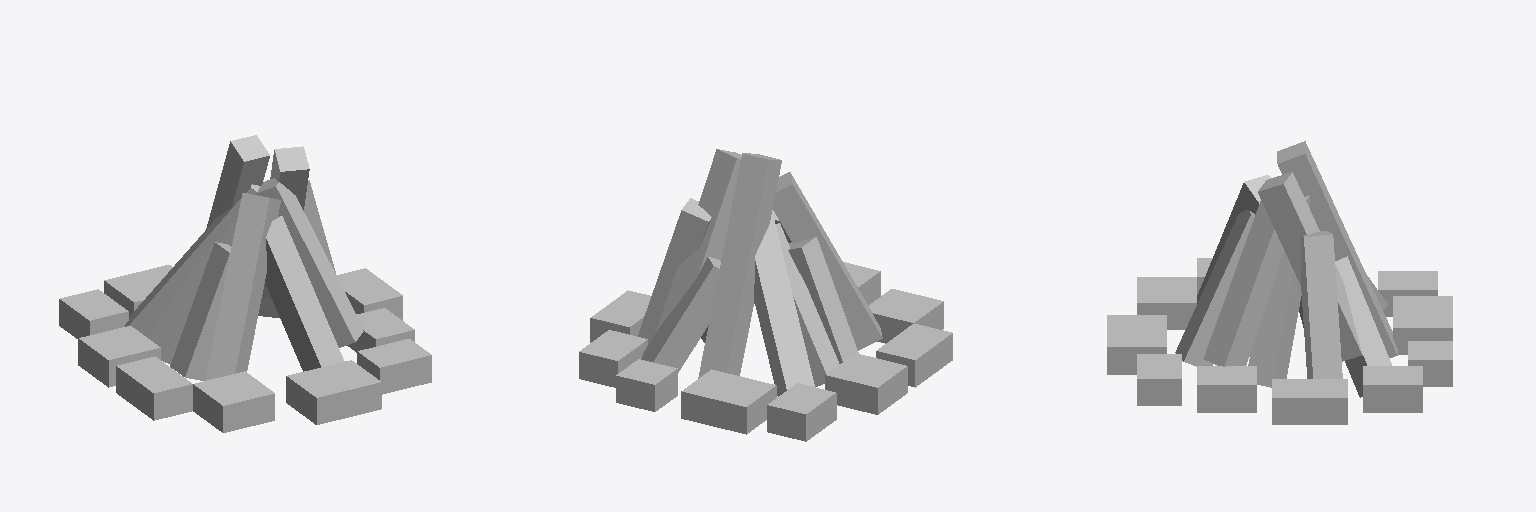
The model's file is костер.obj.
3 renders of one model, left to right at view 1: azimuth 30°, elevation 25°; view 2: azimuth 150°, elevation 25°; view 3: azimuth 270°, elevation 25°, orthographic.
Visible parts, largest first — view 1: Object_42_Object_18.001, Object_38_Object_16.001, Object_12_Object_3.001, Object_34_Object_14.001, Object_40_Object_17.001, Object_22_Object_8.001, Object_24_Object_9.001, Object_48_Object_21.001, Object_20_Object_7.001, Object_6_Object_0.001, Object_30_Object_12.001, Object_26_Object_10.001 (+6 smaller); view 2: Object_30_Object_12.001, Object_48_Object_21.001, Object_42_Object_18.001, Object_18_Object_6.001, Object_36_Object_15.001, Object_46_Object_20.001, Object_20_Object_7.001, Object_40_Object_17.001, Object_26_Object_10.001, Object_32_Object_13.001, Object_24_Object_9.001, Object_44_Object_19.001 (+5 smaller); view 3: Object_34_Object_14.001, Object_32_Object_13.001, Object_36_Object_15.001, Object_30_Object_12.001, Object_28_Object_11.001, Object_38_Object_16.001, Object_10_Object_2.001, Object_12_Object_3.001, Object_18_Object_6.001, Object_14_Object_4.001, Object_8_Object_1.001, Object_22_Object_8.001 (+5 smaller).
Part boxes in pixels (x1,y1,x2,y2): Object_42_Object_18.001: (205, 193, 280, 380); Object_38_Object_16.001: (265, 216, 344, 371); Object_12_Object_3.001: (286, 360, 381, 424); Object_34_Object_14.001: (253, 178, 363, 347); Object_40_Object_17.001: (170, 242, 231, 380); Object_22_Object_8.001: (193, 371, 274, 432); Object_24_Object_9.001: (116, 356, 192, 420); Object_48_Object_21.001: (125, 181, 263, 337); Object_20_Object_7.001: (78, 326, 160, 387); Object_6_Object_0.001: (357, 339, 431, 394); Object_30_Object_12.001: (206, 135, 269, 228); Object_26_Object_10.001: (59, 289, 128, 338); Object_30_Object_12.001: (698, 153, 781, 378); Object_48_Object_21.001: (754, 212, 814, 396); Object_42_Object_18.001: (773, 172, 882, 350); Object_18_Object_6.001: (681, 369, 776, 434); Object_36_Object_15.001: (656, 149, 741, 346); Object_46_Object_20.001: (641, 257, 720, 372); Object_20_Object_7.001: (825, 353, 907, 414); Object_40_Object_17.001: (788, 237, 858, 363); Object_26_Object_10.001: (767, 383, 836, 441); Object_32_Object_13.001: (638, 198, 711, 344); Object_24_Object_9.001: (876, 323, 952, 387); Object_44_Object_19.001: (776, 223, 839, 386); Object_34_Object_14.001: (1203, 201, 1284, 366); Object_32_Object_13.001: (1301, 231, 1342, 378); Object_36_Object_15.001: (1258, 172, 1362, 361); Object_30_Object_12.001: (1277, 141, 1397, 357); Object_28_Object_11.001: (1248, 252, 1301, 387); Object_38_Object_16.001: (1175, 209, 1254, 366); Object_10_Object_2.001: (1272, 379, 1347, 424); Object_12_Object_3.001: (1107, 315, 1166, 374); Object_18_Object_6.001: (1393, 296, 1452, 354); Object_14_Object_4.001: (1363, 366, 1422, 412); Object_8_Object_1.001: (1197, 366, 1256, 412); Object_22_Object_8.001: (1137, 277, 1196, 329).
Size of the model in its own units: 1.38 by 0.9947 by 1.44.